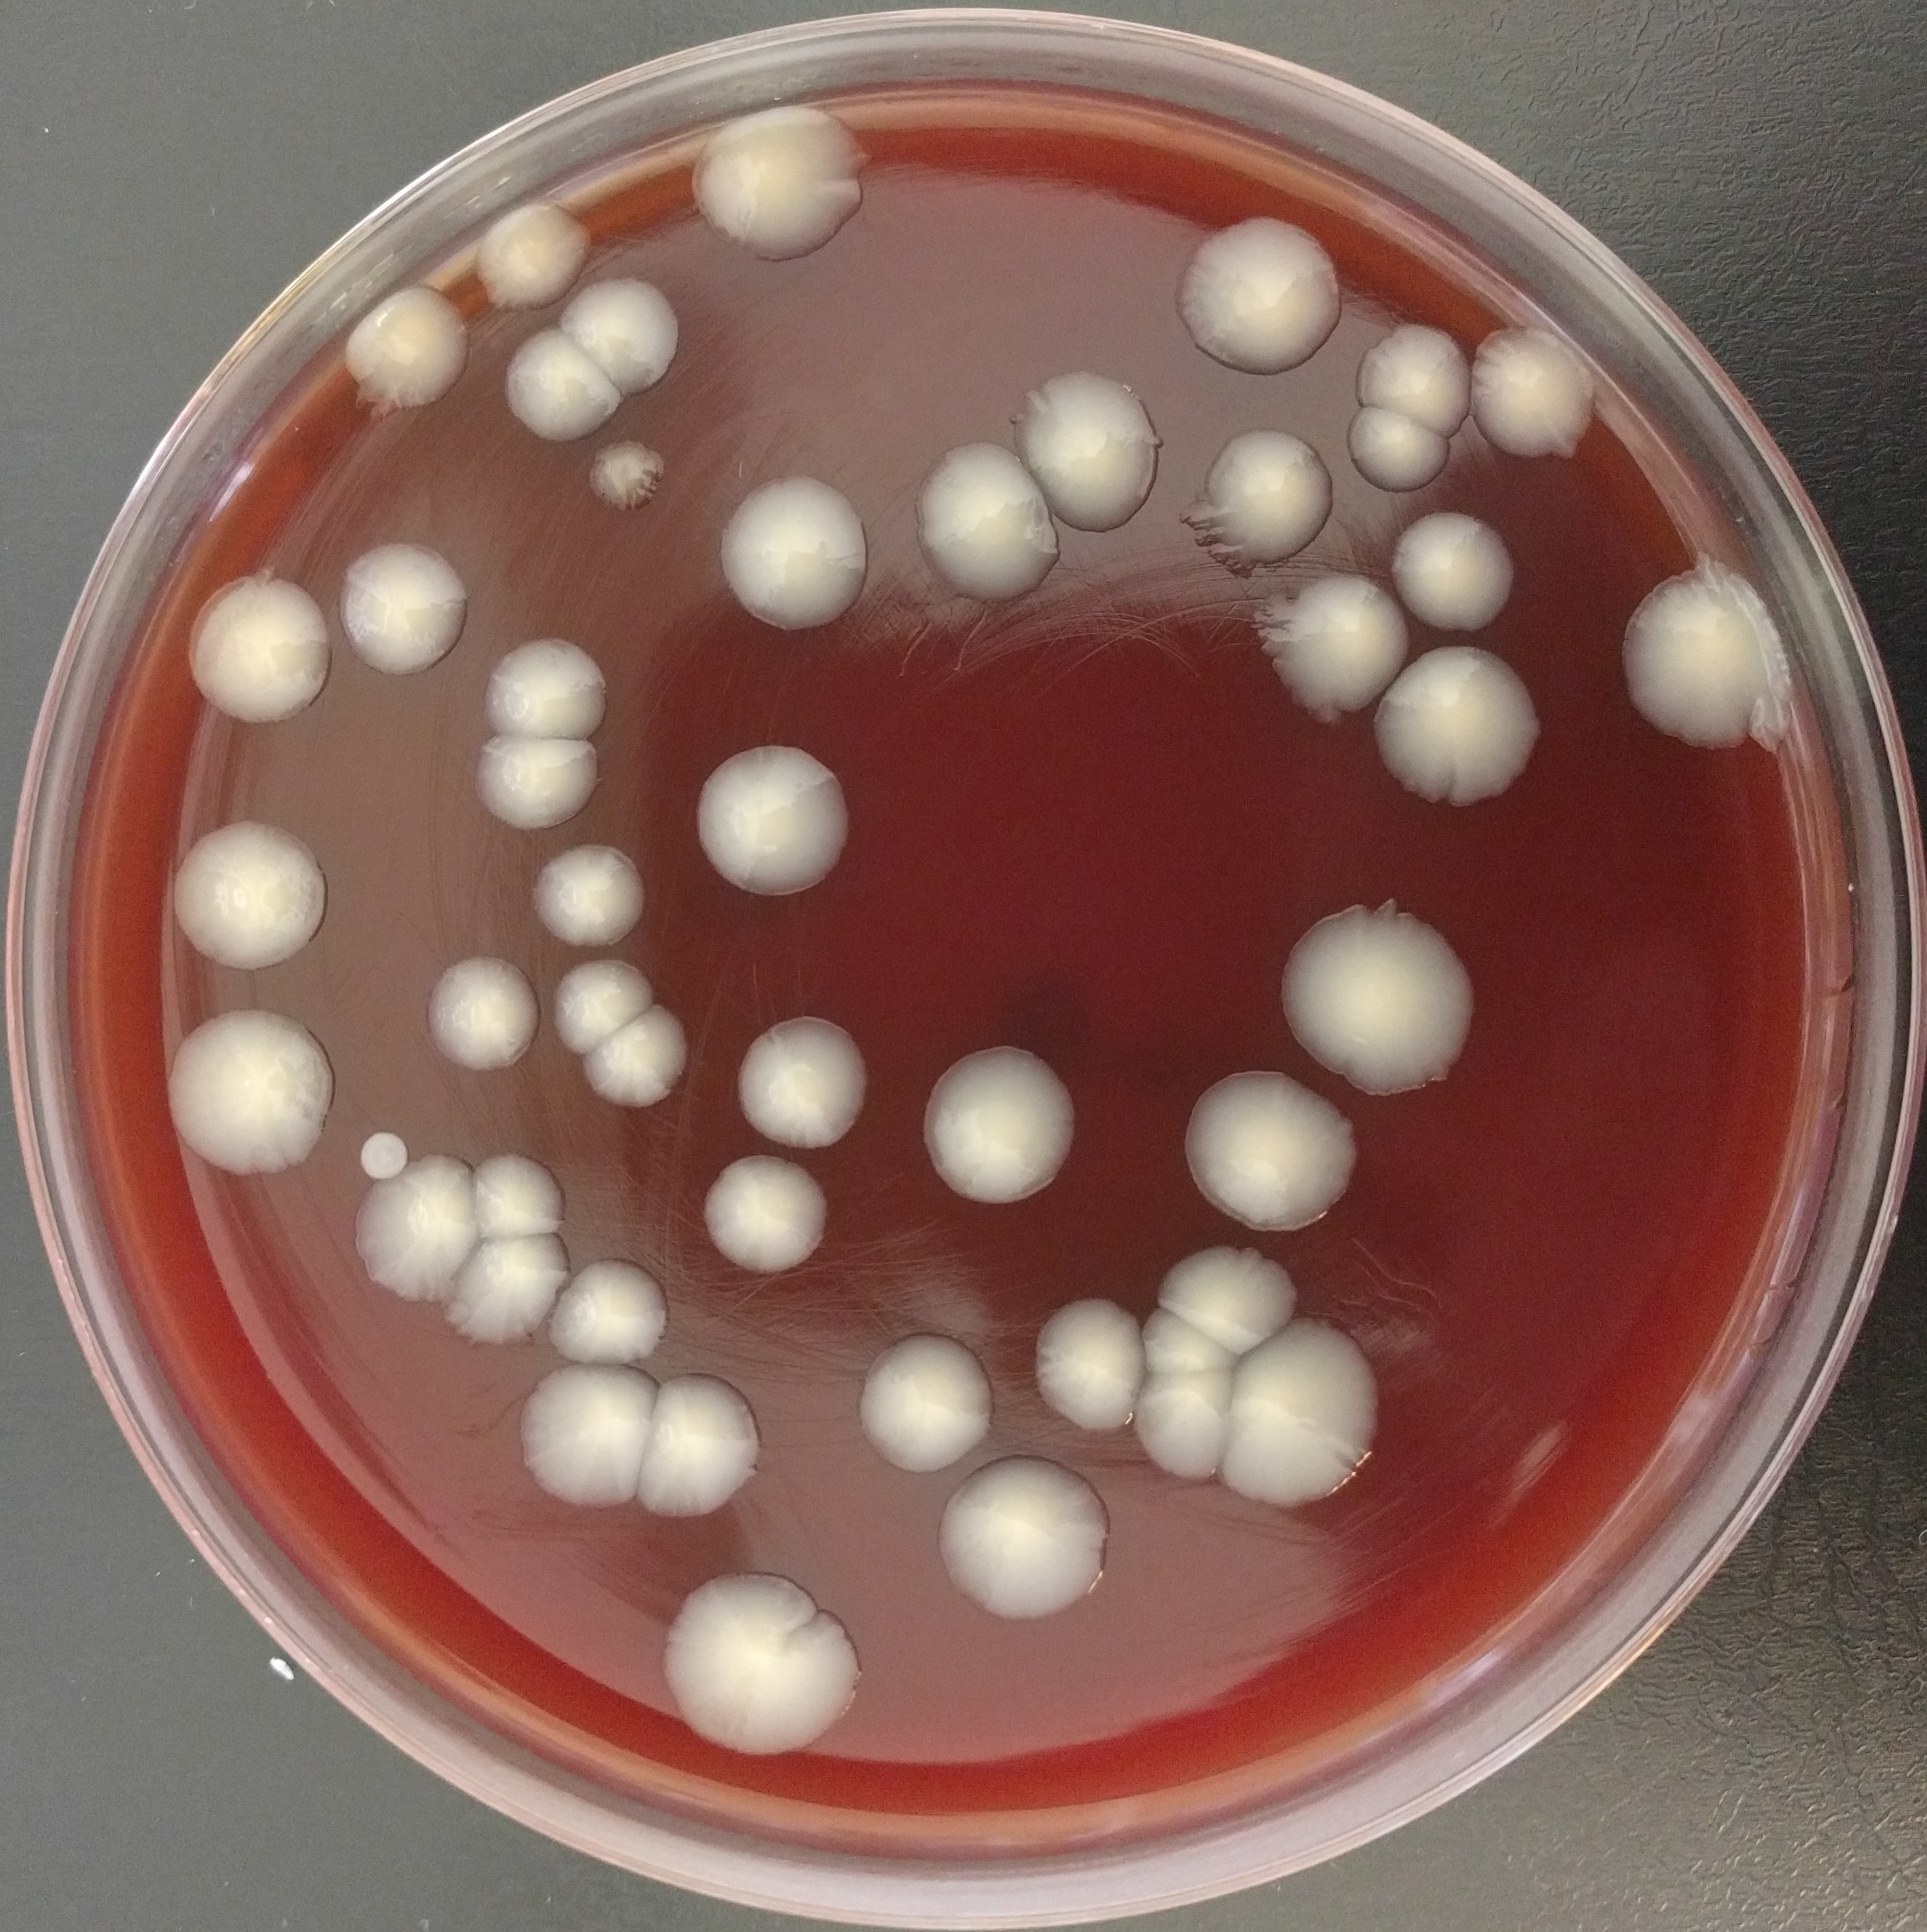sp05: (1618, 550, 1818, 769), (662, 1563, 881, 1763), (1283, 896, 1484, 1106), (1216, 1309, 1385, 1521), (1181, 1060, 1369, 1242), (1172, 205, 1353, 388), (679, 99, 872, 272), (934, 1452, 1121, 1629), (708, 469, 881, 649), (909, 425, 1066, 621), (162, 1002, 339, 1172), (921, 1039, 1087, 1217), (1371, 648, 1551, 810), (1015, 367, 1168, 550), (1249, 563, 1408, 730), (702, 739, 861, 902), (519, 1360, 662, 1535), (187, 568, 339, 732), (162, 820, 330, 969), (1173, 425, 1329, 579), (854, 1325, 1006, 1475), (1470, 311, 1606, 469), (634, 1371, 766, 1531), (695, 1145, 840, 1292), (732, 1006, 875, 1152), (337, 535, 473, 686), (454, 180, 600, 319), (355, 1156, 480, 1311), (339, 279, 466, 427), (1385, 512, 1523, 639), (1031, 1295, 1147, 1442), (1151, 1247, 1309, 1353), (559, 275, 686, 402), (439, 1235, 572, 1353), (503, 321, 625, 446), (1353, 314, 1479, 434), (478, 633, 611, 745), (529, 842, 656, 956), (551, 1254, 669, 1376), (429, 953, 536, 1083), (1138, 1366, 1244, 1496), (466, 736, 611, 831), (586, 1002, 690, 1119), (1345, 404, 1466, 496), (551, 953, 653, 1052), (464, 1145, 563, 1244), (588, 434, 669, 535), (1142, 1304, 1244, 1380), (353, 1126, 409, 1184)
